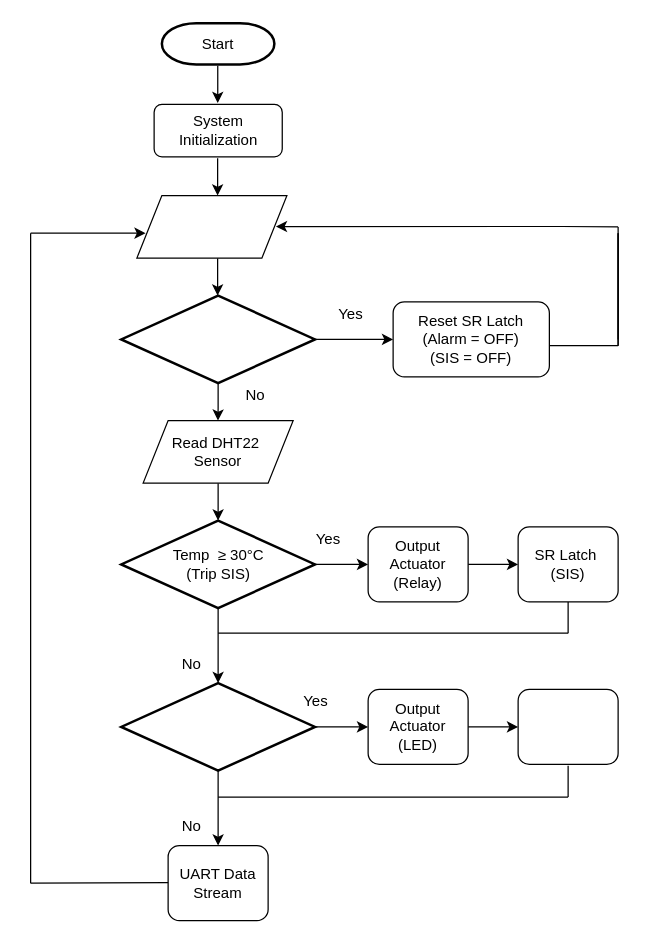
Image size: 650x943. Some labels were removed from this diagram. The centre of each missing label's shape, as x and y in pixels:
"Read Reset Button" goes at (211,226).
"Reset Button" goes at (217,339).
"SR Latch (Alarm)" goes at (567,726).
"Temp ≥ 26°C (Warning)" goes at (217,726).
